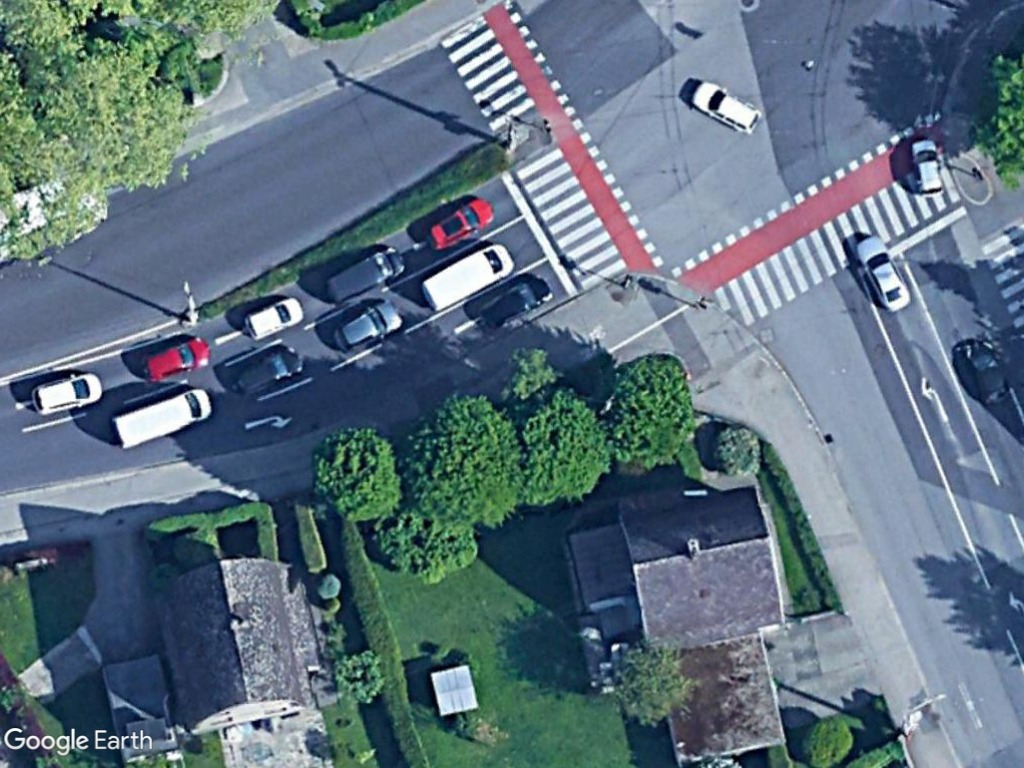car: (473, 272, 556, 335), (685, 76, 764, 137), (854, 232, 912, 313), (326, 299, 403, 359), (231, 342, 306, 402), (426, 191, 498, 252), (138, 330, 216, 384), (960, 336, 1014, 408), (28, 370, 104, 419), (241, 291, 304, 342), (905, 136, 948, 200)
van: (107, 382, 217, 452), (419, 240, 518, 312), (319, 243, 405, 300)
